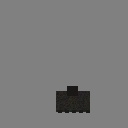personnel: (56, 91, 90, 112)
